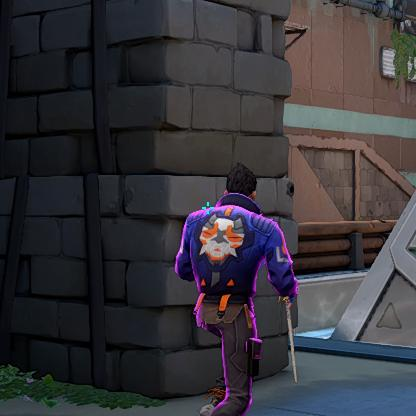enemyBody: (203, 213, 242, 298)
enemyHead: (231, 175, 251, 204)
